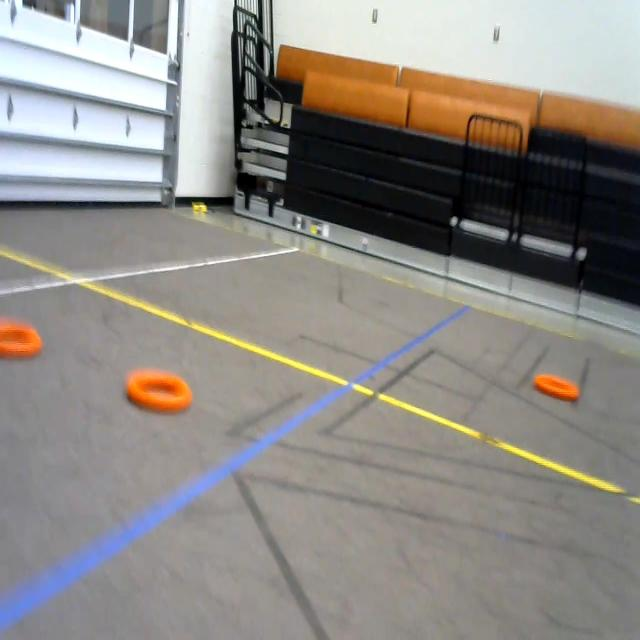note: (120, 356, 207, 426), (526, 359, 588, 416), (0, 311, 44, 369)
